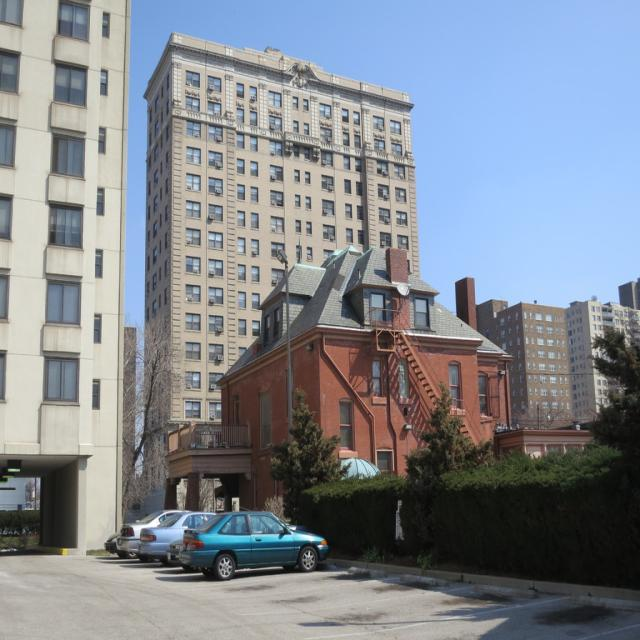car: (174, 509, 325, 583)
